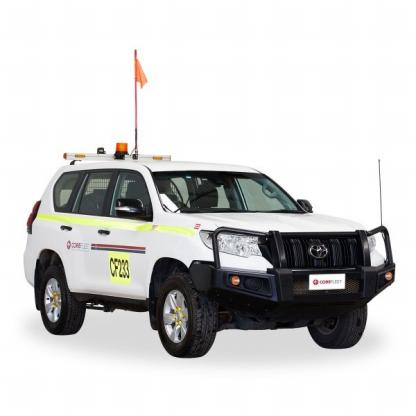light_vehicle: (23, 146, 398, 364)
